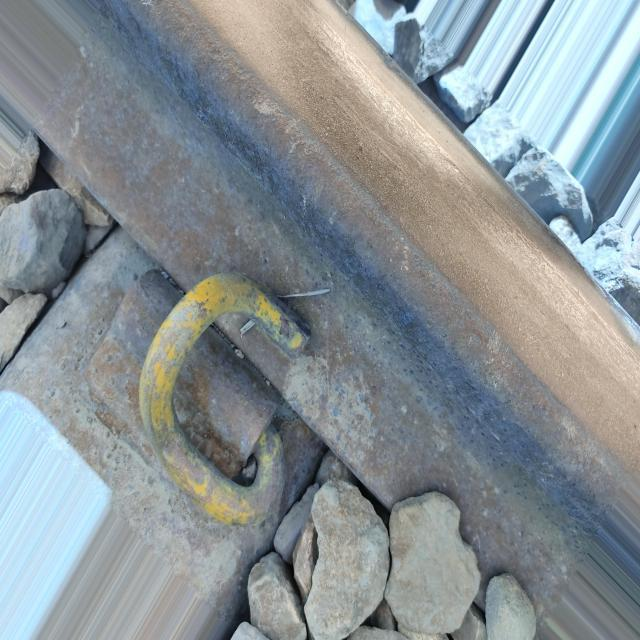Good Fasteners: (55, 192, 391, 574)
